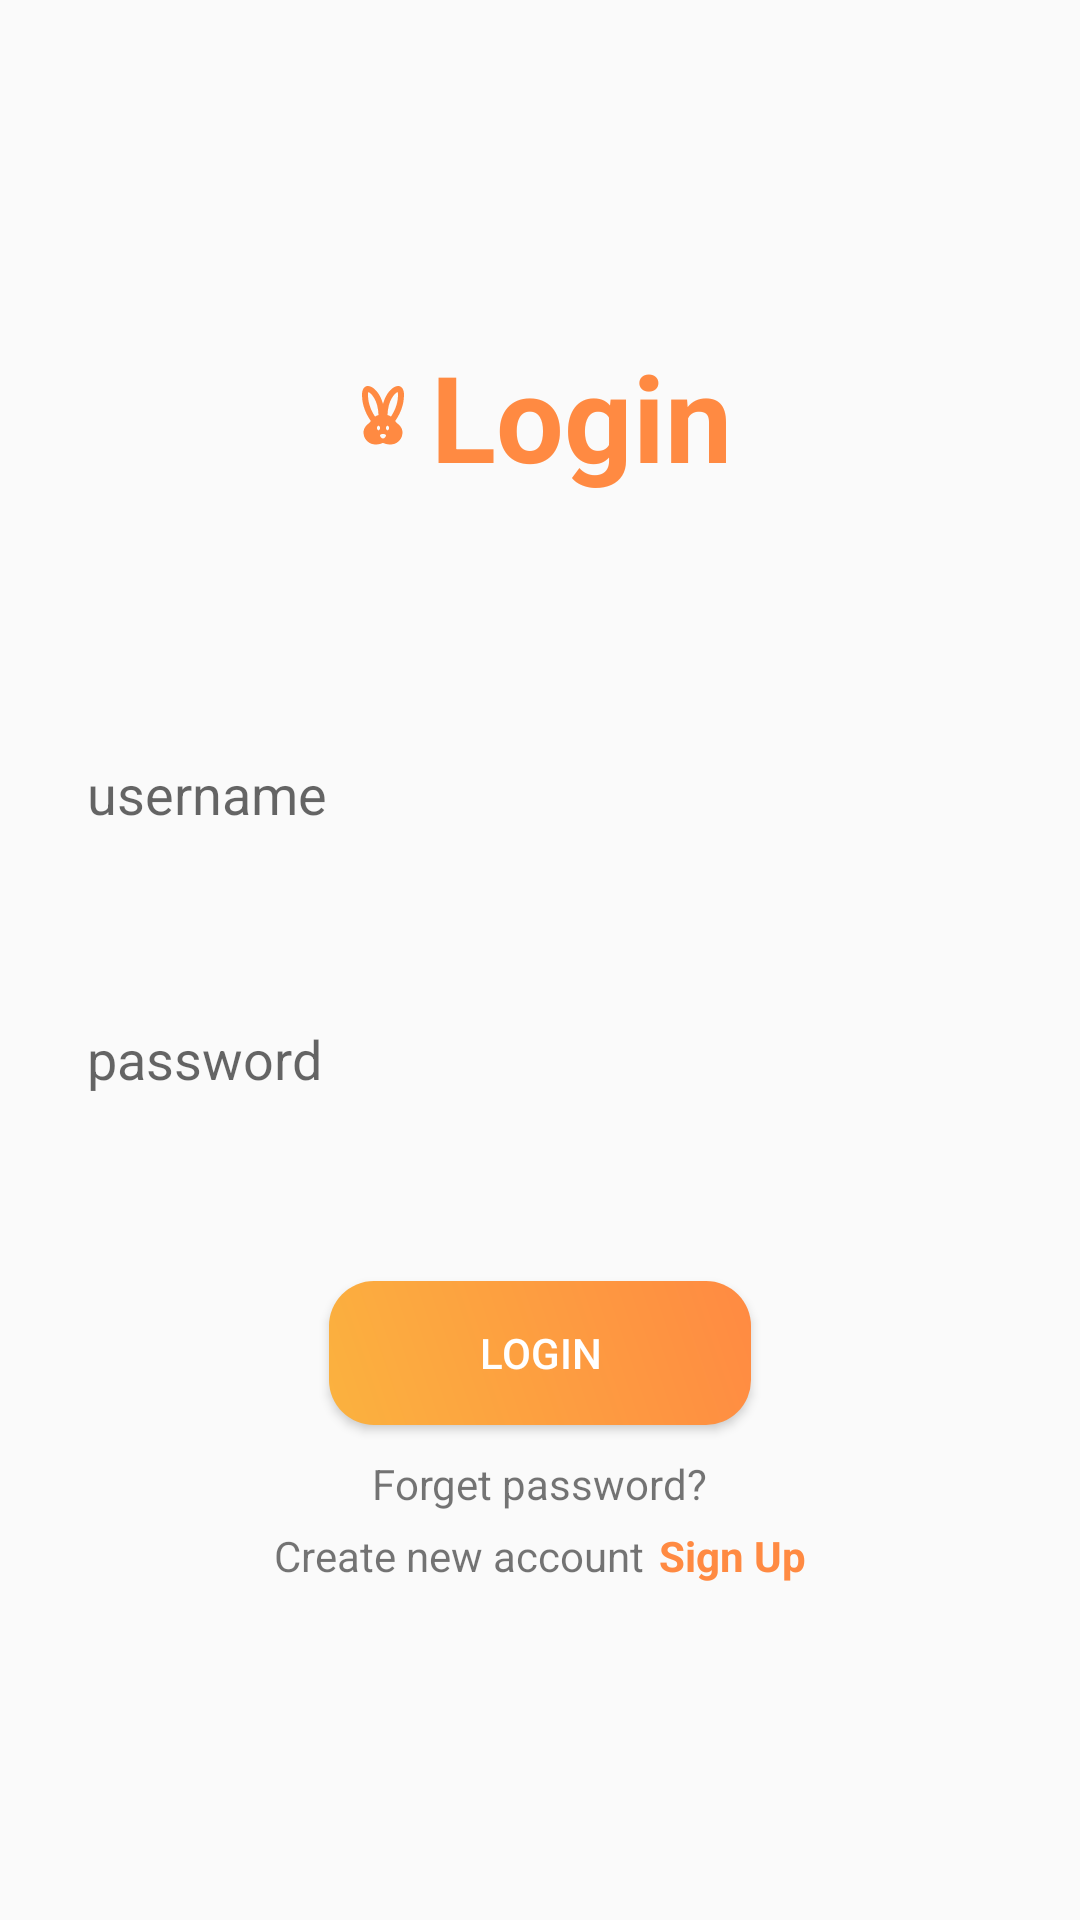

Locate icon controls on the screen. Image size 1080×1920, boxes as rect(x1, y1, x2, y2).
cruelty free: rect(362, 386, 404, 445)
